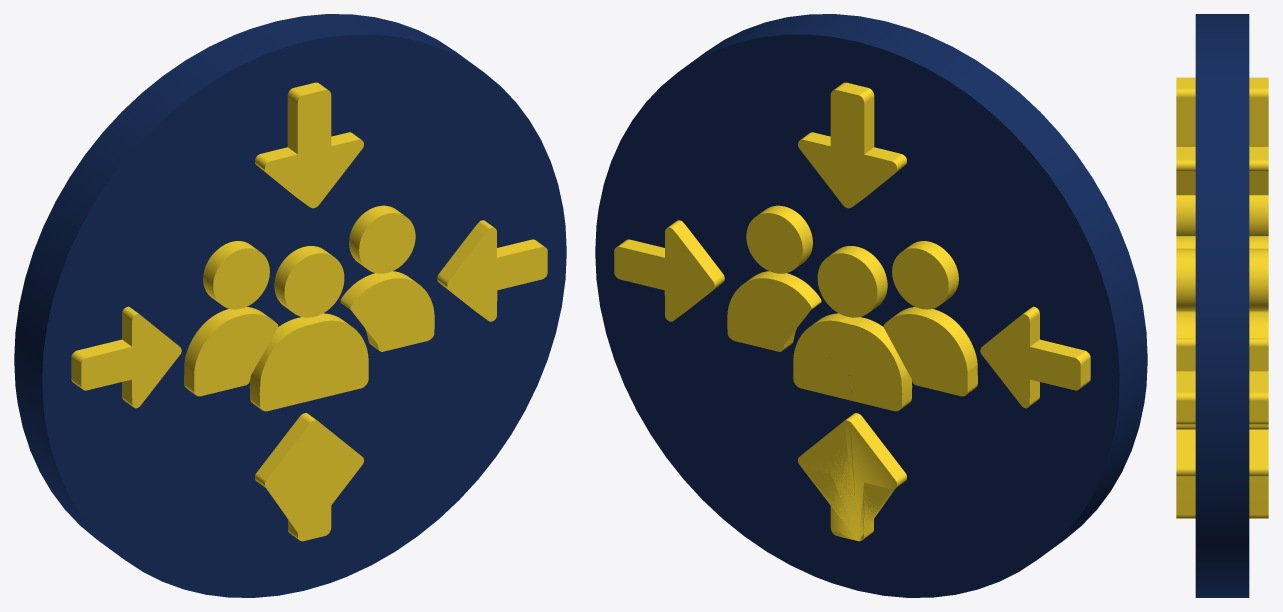
File: spot PUNTO DE ENCUENTRO.fbx
3 renders of one model, left to right at view 1: azimuth 30°, elevation 25°; view 2: azimuth 150°, elevation 25°; view 3: azimuth 270°, elevation 25°, orthographic. The views are drawn at different scales.
Parts seen in each view (by area): view 1: Recurso_6iconos_spot_svg_1; view 2: Recurso_6iconos_spot_svg_1; view 3: Recurso_6iconos_spot_svg_1.
Boxes of the visible parts, box(x1,y1,x2,y2) form: Recurso_6iconos_spot_svg_1: box(14, 14, 566, 597); Recurso_6iconos_spot_svg_1: box(595, 14, 1147, 597); Recurso_6iconos_spot_svg_1: box(1176, 14, 1268, 597).
Bounding box in the file's own units: 197 × 197 × 31.31.
